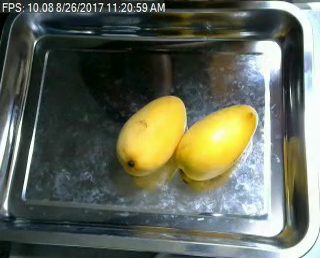Mango: (175, 103, 258, 182), (116, 97, 186, 175)
